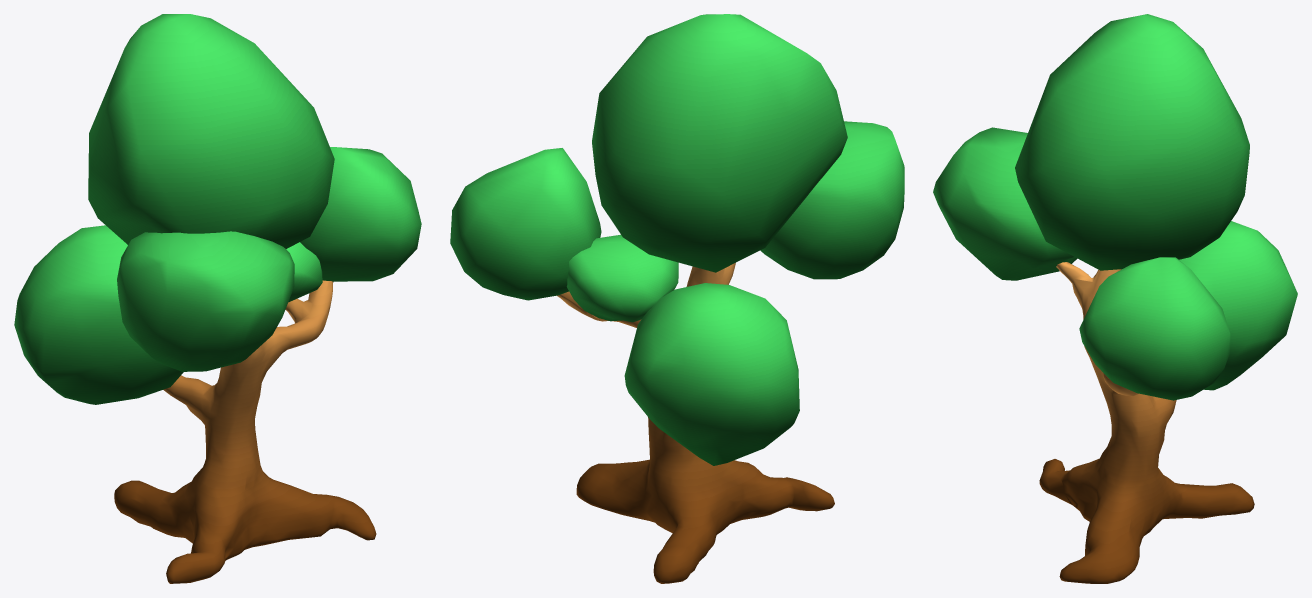
File: Tree2.fbx
3 renders of one model, left to right at view 1: azimuth 30°, elevation 25°; view 2: azimuth 150°, elevation 25°; view 3: azimuth 270°, elevation 25°, orthographic. The views are drawn at different scales.
Visible parts, largest first — view 1: Leaves2.001, Tree2.001, Leaves1, Leaves1.001, Leaves2, Leaves3; view 2: Leaves2.001, Leaves1.001, Tree2.001, Leaves2, Leaves1, Leaves3; view 3: Leaves2.001, Tree2.001, Leaves2, Leaves1, Leaves1.001.
Boxes of the visible parts, left/top/right/bottom form: Leaves2.001: left=88, top=14, right=334, bottom=248; Tree2.001: left=114, top=280, right=376, bottom=583; Leaves1: left=117, top=231, right=294, bottom=371; Leaves1.001: left=14, top=225, right=183, bottom=404; Leaves2: left=300, top=147, right=421, bottom=281; Leaves3: left=286, top=242, right=322, bottom=302; Leaves2.001: left=592, top=14, right=847, bottom=272; Leaves1.001: left=624, top=283, right=799, bottom=465; Tree2.001: left=557, top=262, right=834, bottom=583; Leaves2: left=450, top=148, right=601, bottom=300; Leaves1: left=760, top=121, right=904, bottom=279; Leaves3: left=566, top=234, right=678, bottom=322; Leaves2.001: left=1015, top=14, right=1249, bottom=270; Tree2.001: left=1039, top=262, right=1254, bottom=583; Leaves2: left=1079, top=257, right=1230, bottom=400; Leaves1: left=933, top=127, right=1077, bottom=280; Leaves1.001: left=1179, top=221, right=1297, bottom=390.
Bounding box in the file's own units: 24.04 × 22.53 × 33.79.
